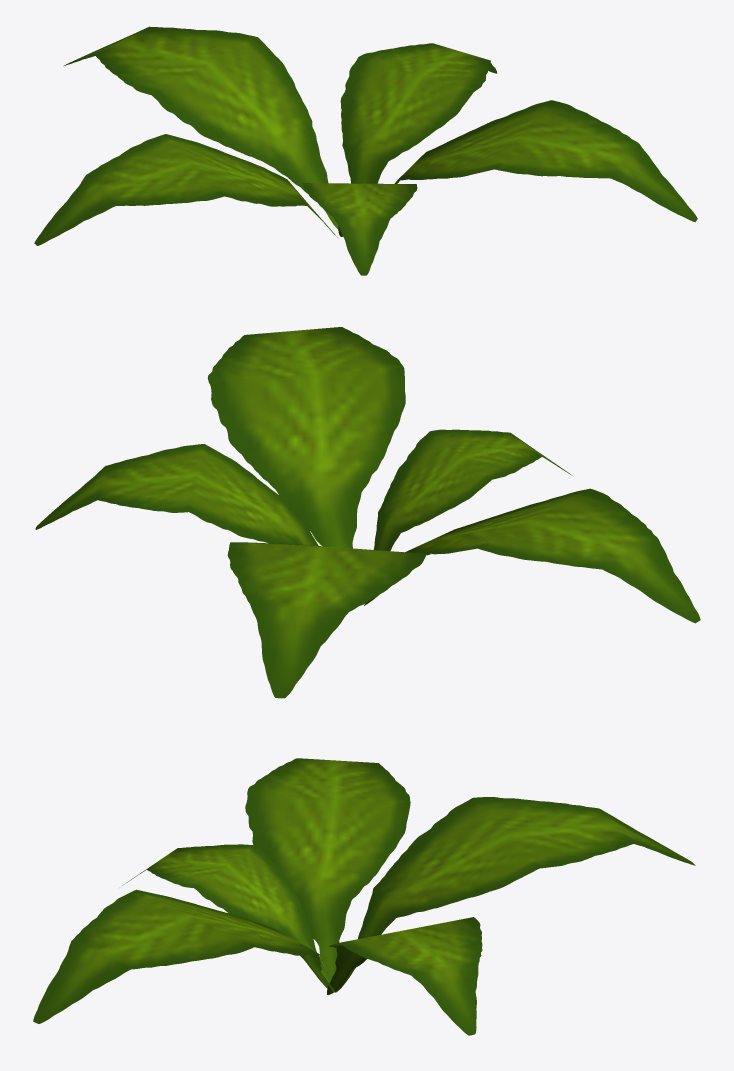
Rendered from herb01.obj.
The picture shows the model from 3 angles, top to bottom: view 1: azimuth 30°, elevation 25°; view 2: azimuth 150°, elevation 25°; view 3: azimuth 270°, elevation 25°; orthographic projection. The views are drawn at different scales.
Visible parts, largest first — view 1: Triangles, Duplicate04, Duplicate05, Duplicate06, Duplicate07; view 2: Duplicate04, Triangles, Duplicate06, Duplicate05, Duplicate07; view 3: Duplicate06, Triangles, Duplicate04, Duplicate05, Duplicate07.
Part boxes in pixels (<box>): Triangles: <box>63,26,338,229</box>; Duplicate04: <box>394,100,697,222</box>; Duplicate05: <box>340,43,497,183</box>; Duplicate06: <box>34,134,338,245</box>; Duplicate07: <box>302,183,417,275</box>; Duplicate04: <box>207,327,405,548</box>; Triangles: <box>227,542,430,698</box>; Duplicate06: <box>364,488,700,623</box>; Duplicate05: <box>35,444,318,545</box>; Duplicate07: <box>373,429,572,550</box>; Duplicate06: <box>245,758,410,979</box>; Triangles: <box>335,797,695,992</box>; Duplicate04: <box>33,889,334,1023</box>; Duplicate05: <box>327,917,482,1035</box>; Duplicate07: <box>122,844,330,983</box>.
Bounding box in the file's own units: 48.74 × 10.63 × 51.76.
